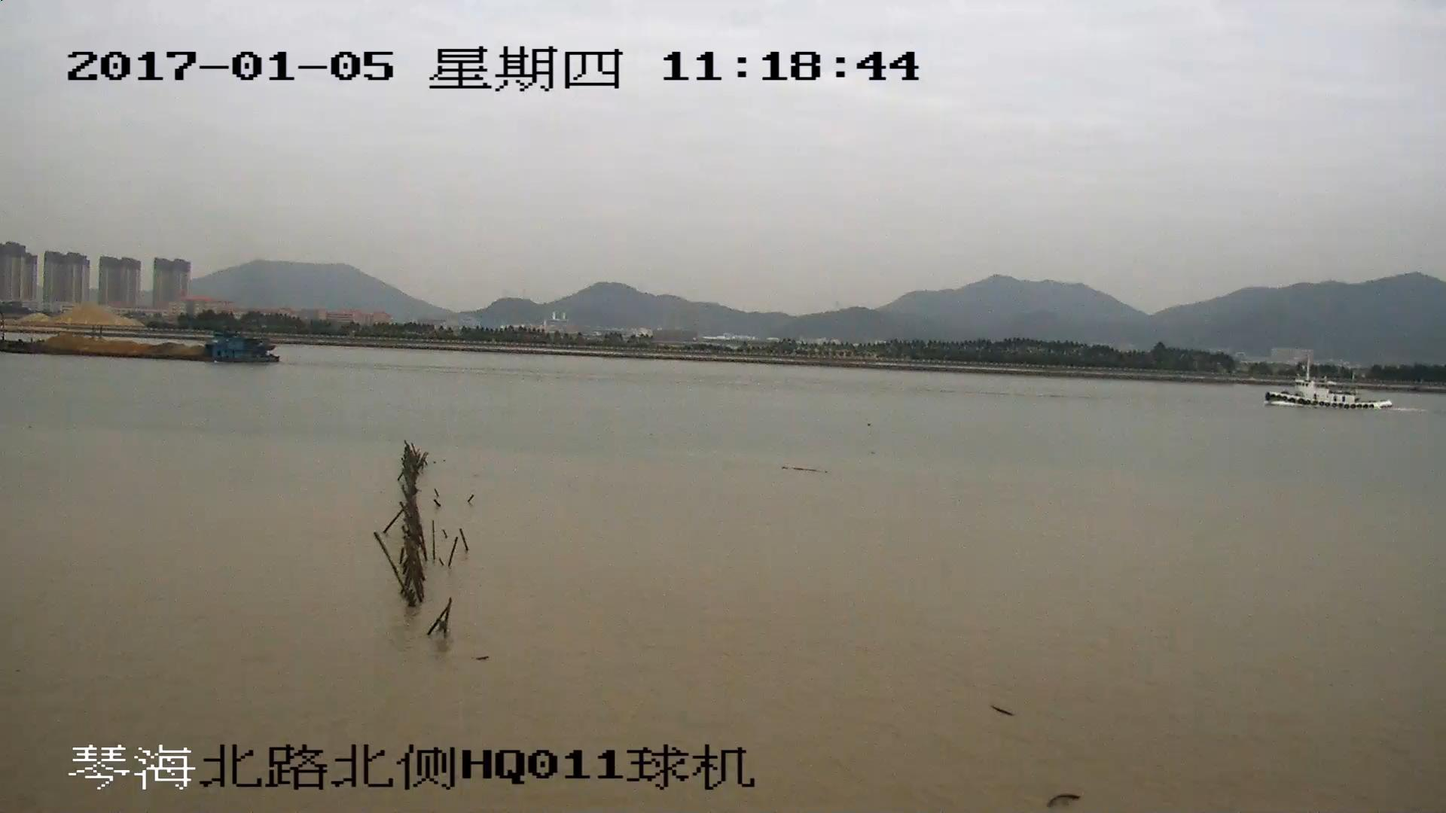fishing boat: (1269, 358, 1390, 410)
ore carrier: (0, 331, 272, 364)
